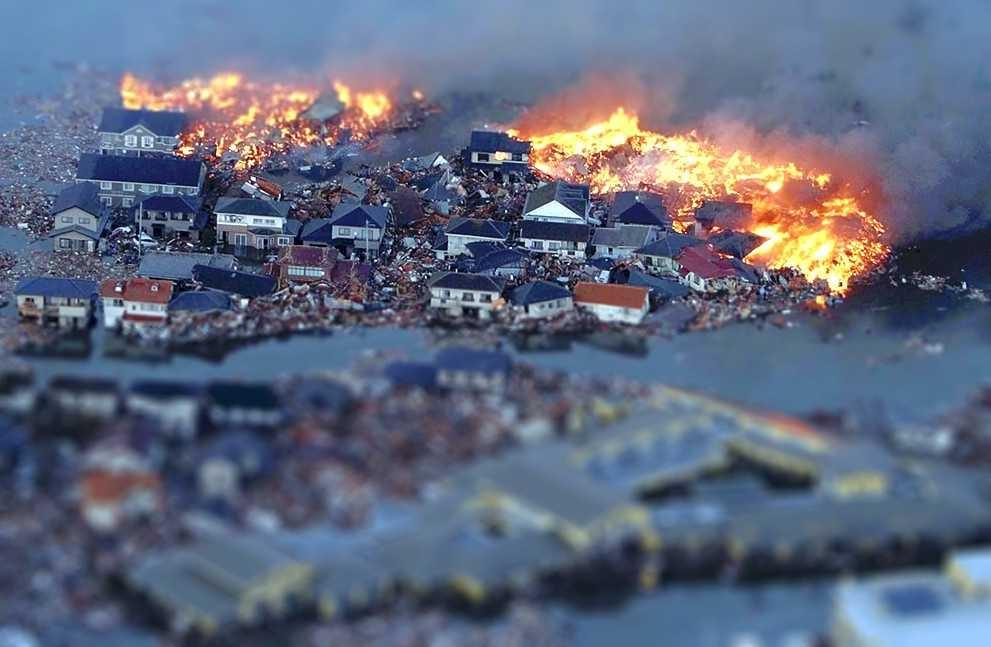fire: (773, 218, 867, 272), (670, 142, 753, 177), (572, 123, 645, 148), (367, 93, 383, 118)
smoke: (440, 7, 825, 70), (838, 0, 957, 138)
